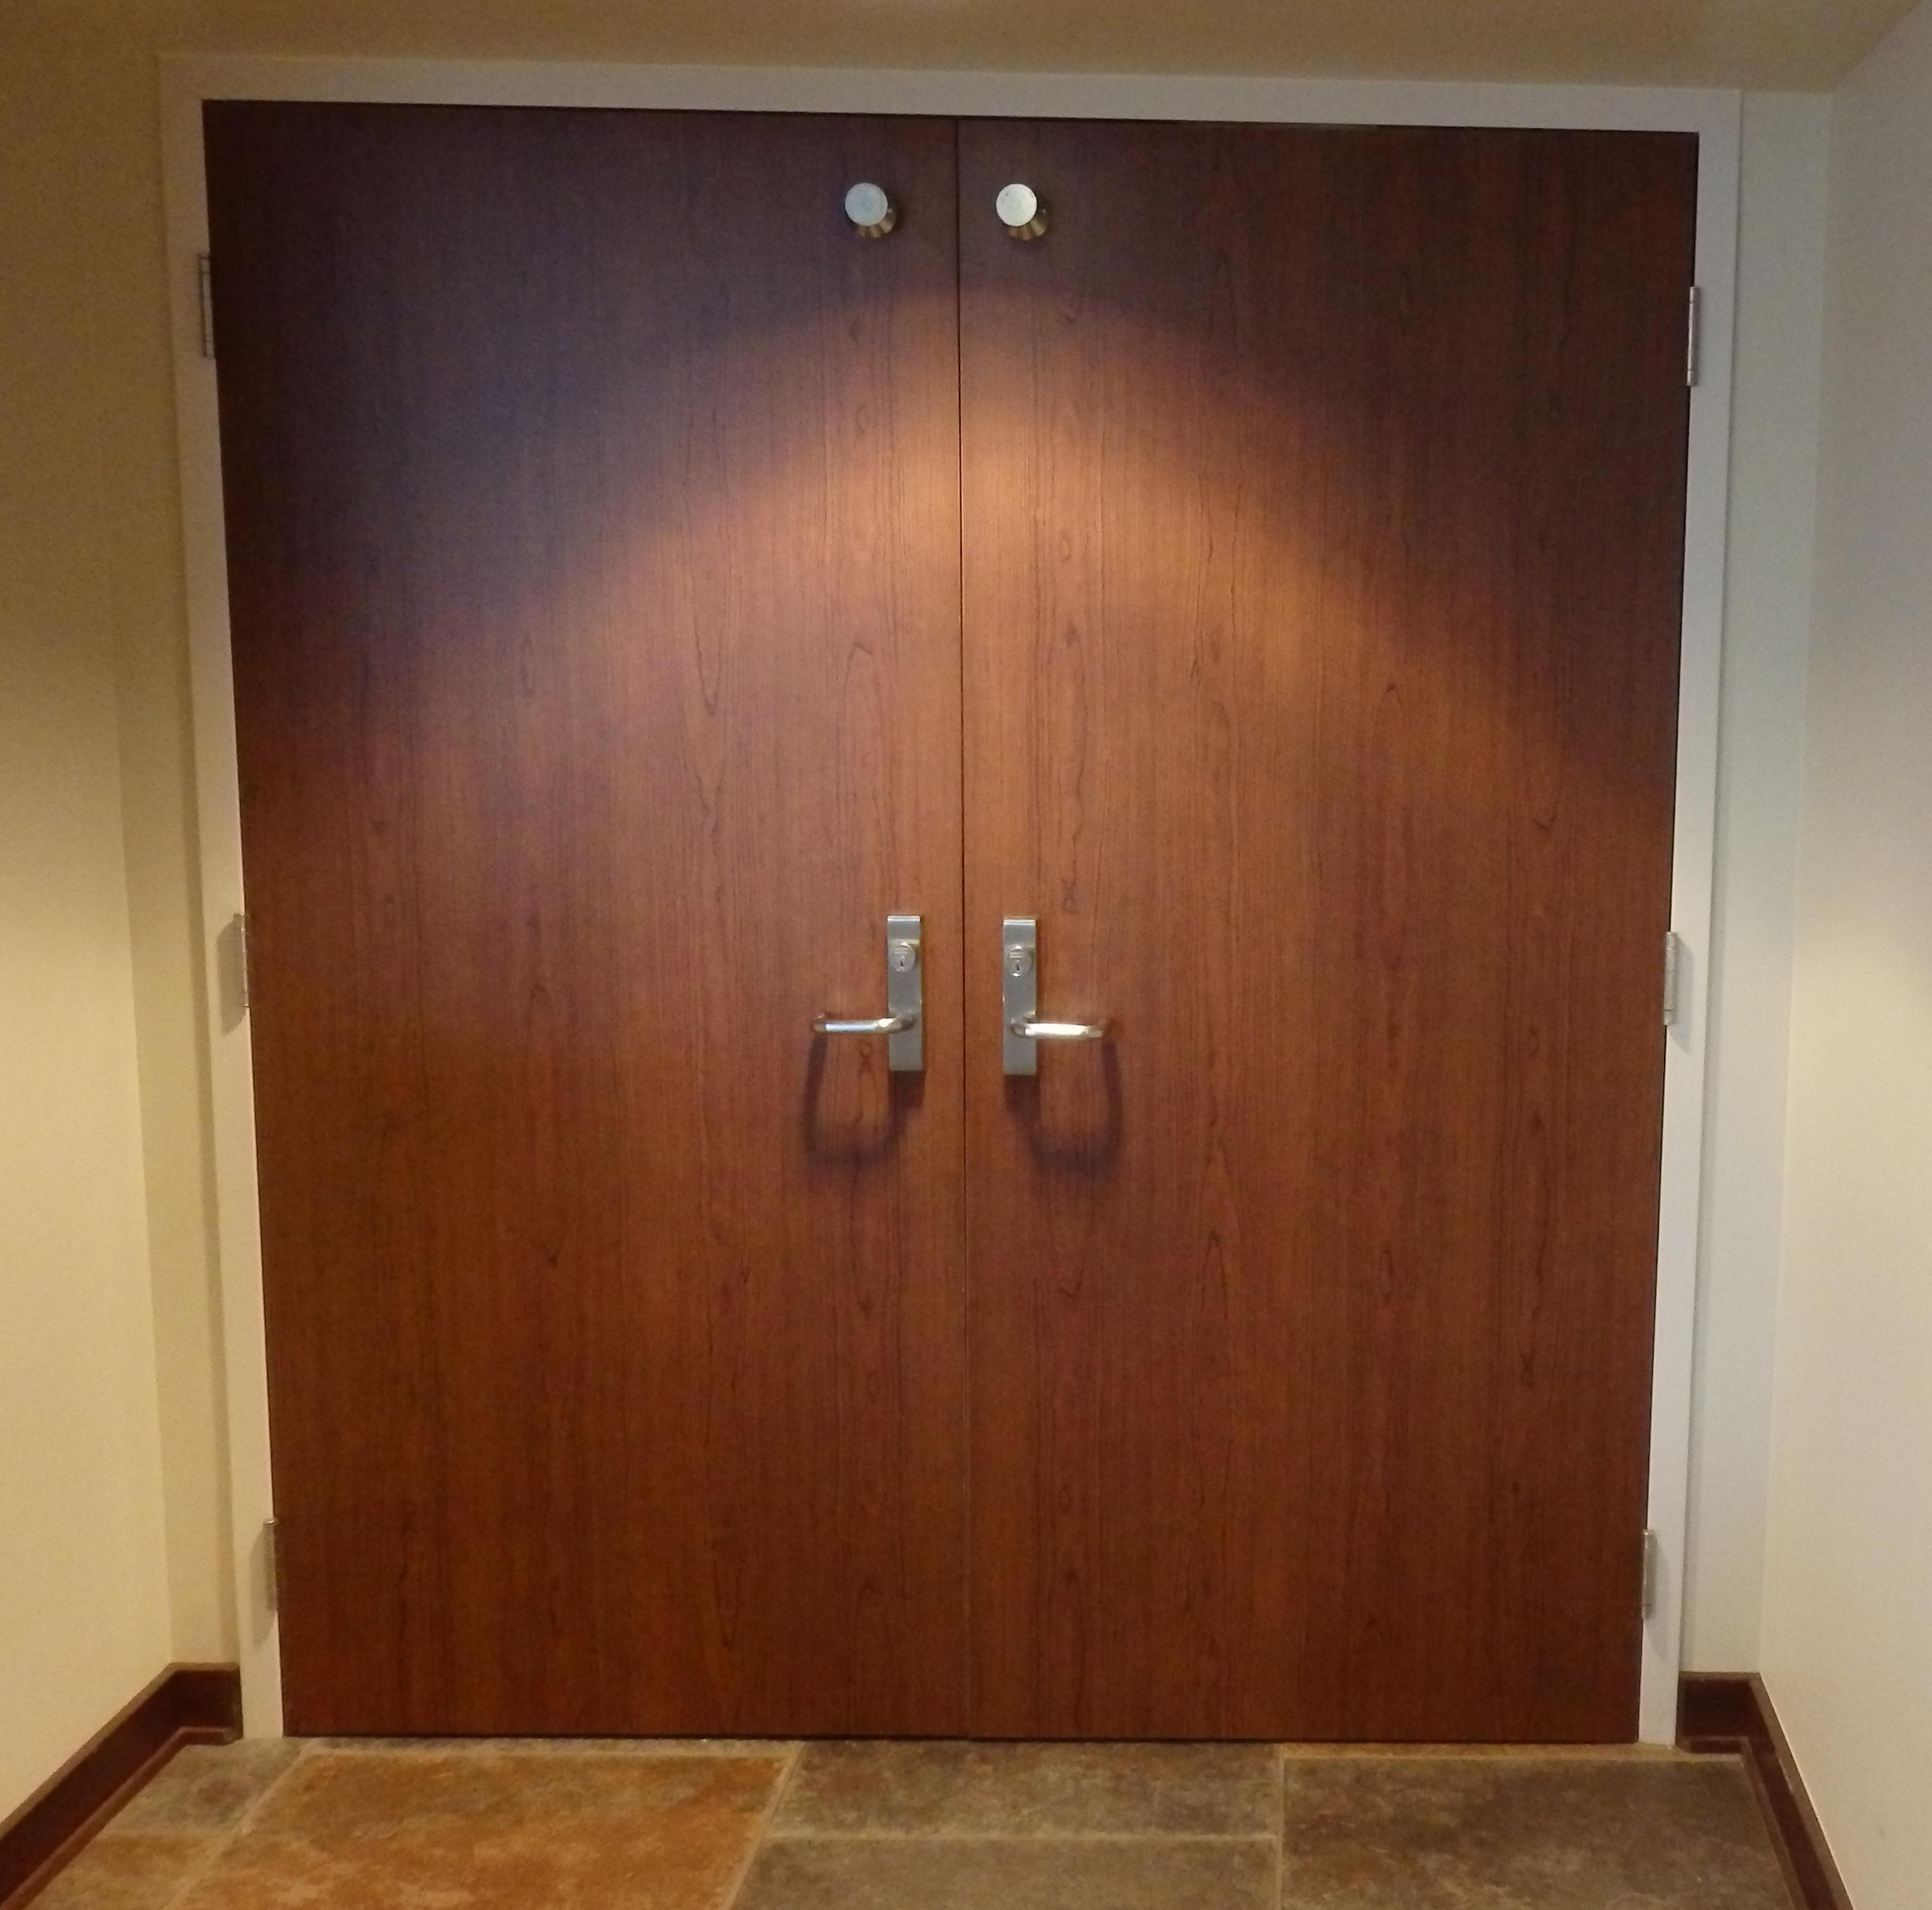door: (168, 61, 1675, 1758)
